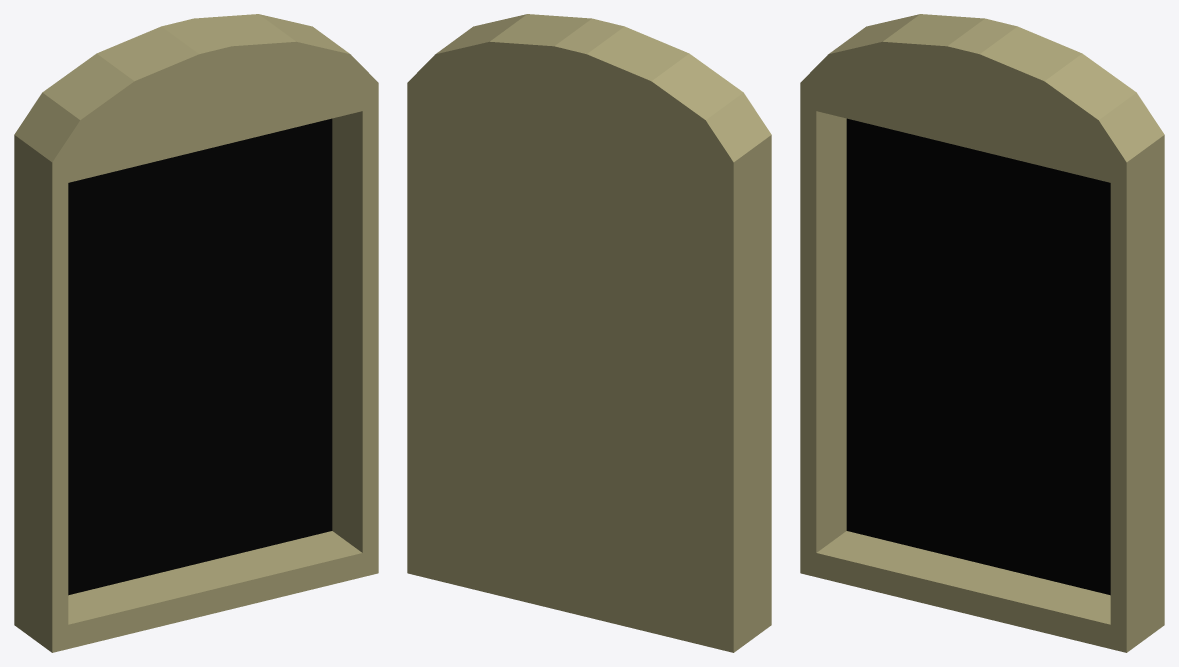
Rendered from window.fbx.
3 renders of one model, left to right at view 1: azimuth 30°, elevation 25°; view 2: azimuth 150°, elevation 25°; view 3: azimuth 330°, elevation 25°, orthographic.
Visible parts, largest first — view 1: Window; view 2: Window; view 3: Window.
Part boxes in pixels (left/top/right/bottom): Window: left=14, top=14, right=378, bottom=652; Window: left=407, top=14, right=771, bottom=652; Window: left=800, top=14, right=1164, bottom=652.
Size of the model in its own units: 107 by 176 by 21.46.
